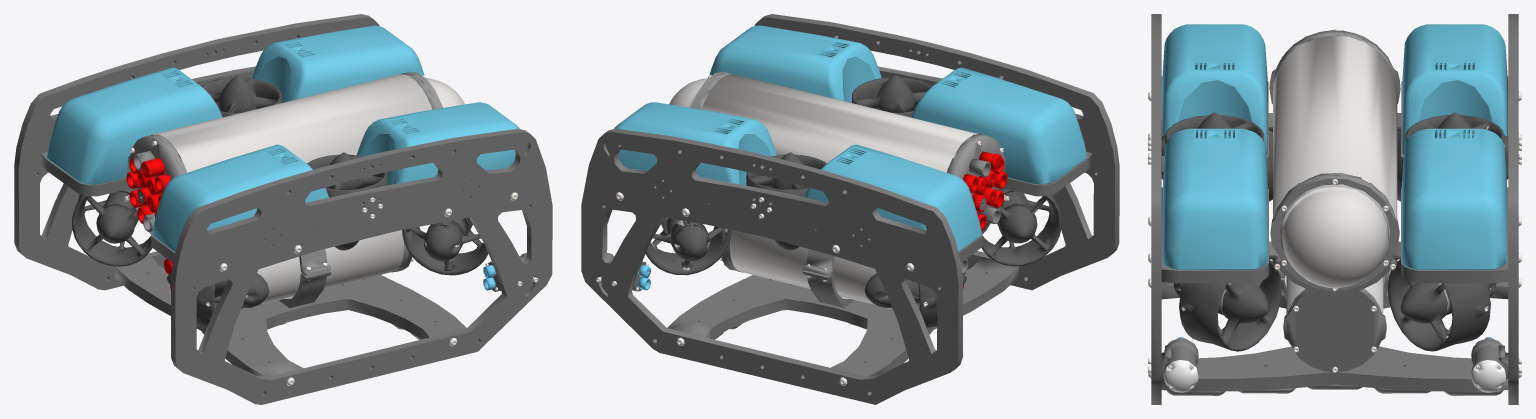
File: bluerov2.dae
3 renders of one model, left to right at view 1: azimuth 30°, elevation 25°; view 2: azimuth 150°, elevation 25°; view 3: azimuth 270°, elevation 25°, orthographic. The views are drawn at different scales.
Visible parts, largest first — view 1: BROV2-BASE; view 2: BROV2-BASE; view 3: BROV2-BASE.
Part boxes in pixels (left/top/right/bottom): BROV2-BASE: left=14, top=14, right=552, bottom=404; BROV2-BASE: left=581, top=14, right=1119, bottom=404; BROV2-BASE: left=1148, top=14, right=1521, bottom=404.
Bounding box in the file's own units: 18 × 13.54 × 9.99.
